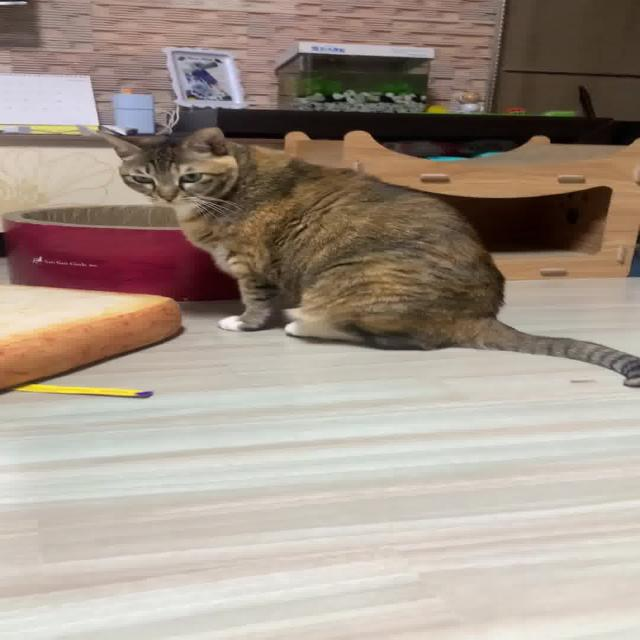cat: (80, 122, 640, 396)
